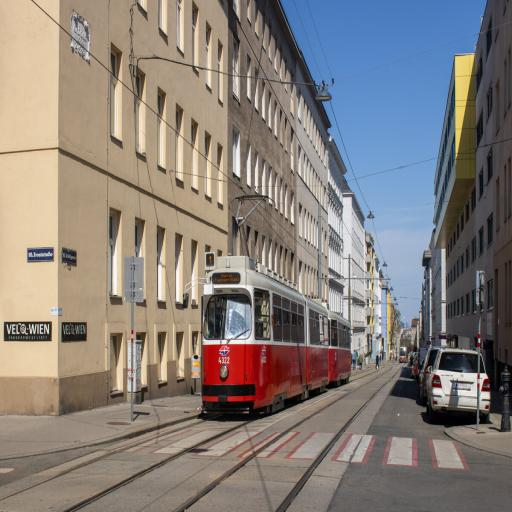E2-Tram: (200, 253, 350, 411)
